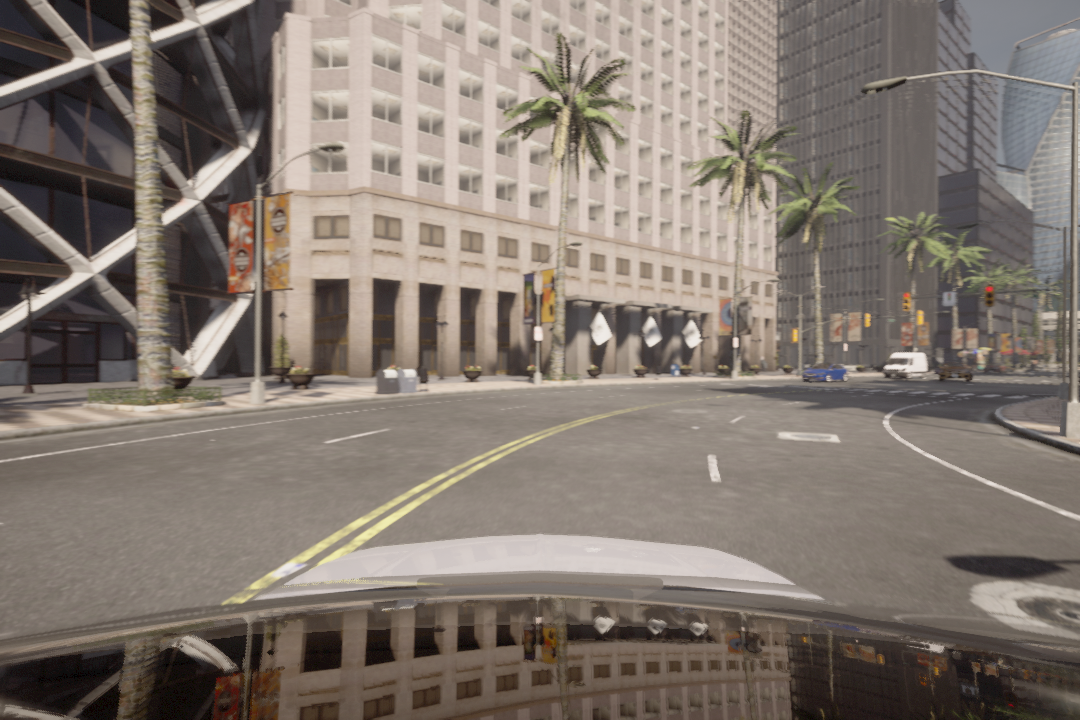TrafficLight: (901, 290, 914, 315), (983, 287, 997, 310)
